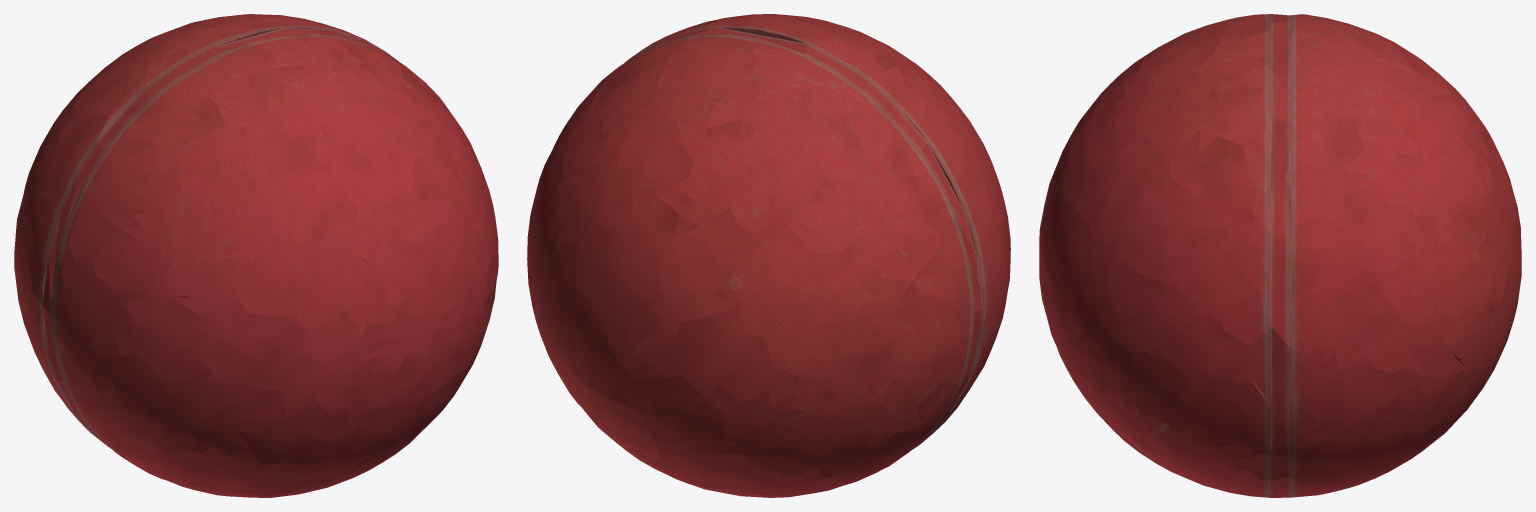
File: palla_rossa.glb
3 renders of one model, left to right at view 1: azimuth 30°, elevation 25°; view 2: azimuth 150°, elevation 25°; view 3: azimuth 270°, elevation 25°, orthographic.
Visible parts, largest first — view 1: palla_rossa; view 2: palla_rossa; view 3: palla_rossa.
Boxes of the visible parts, box(x1,y1,x2,y2) form: palla_rossa: box(14, 14, 498, 497); palla_rossa: box(527, 14, 1010, 497); palla_rossa: box(1039, 14, 1521, 497).
Bounding box in the file's own units: 0.55 × 0.5497 × 0.5477.
1 material, 1 textured.
